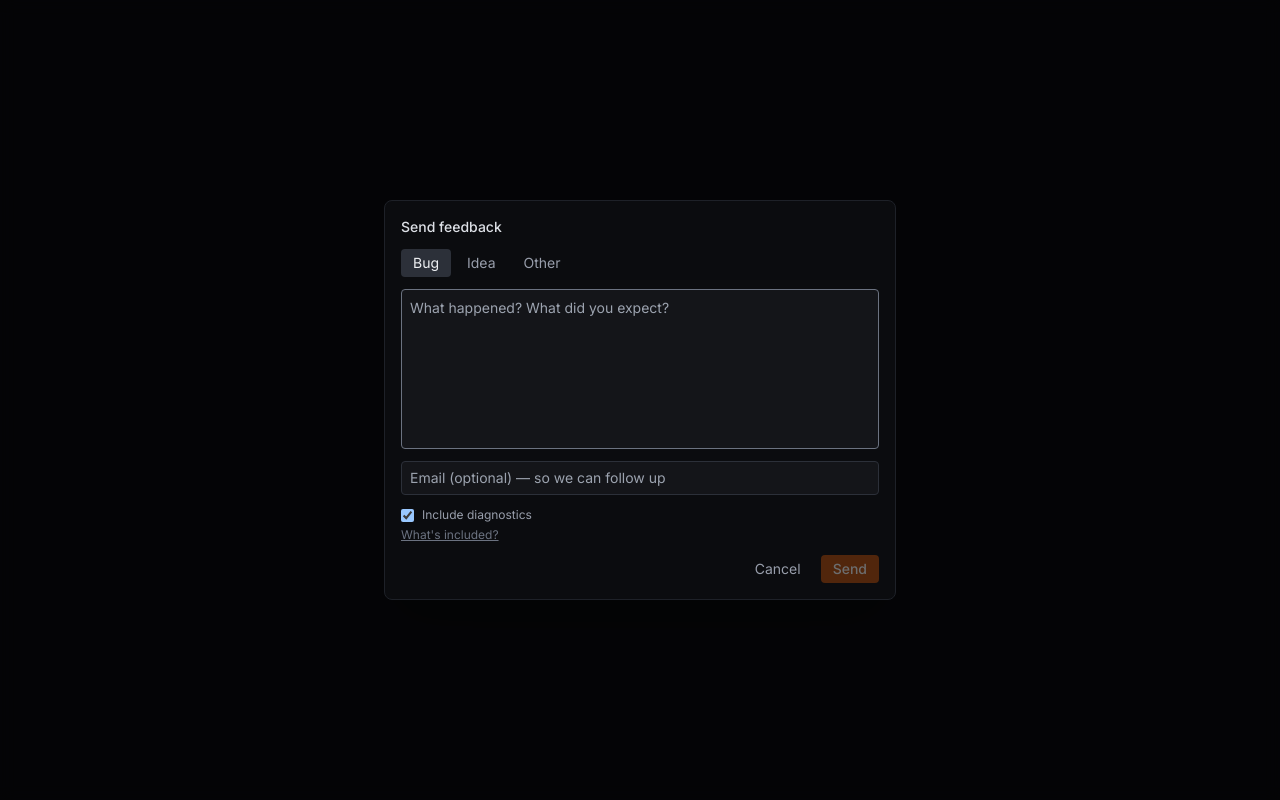
FeedbackDialog › shows an error with Retry on failure
Type "x" into the text box named "message" at [640, 369], box [401, 289, 879, 449]
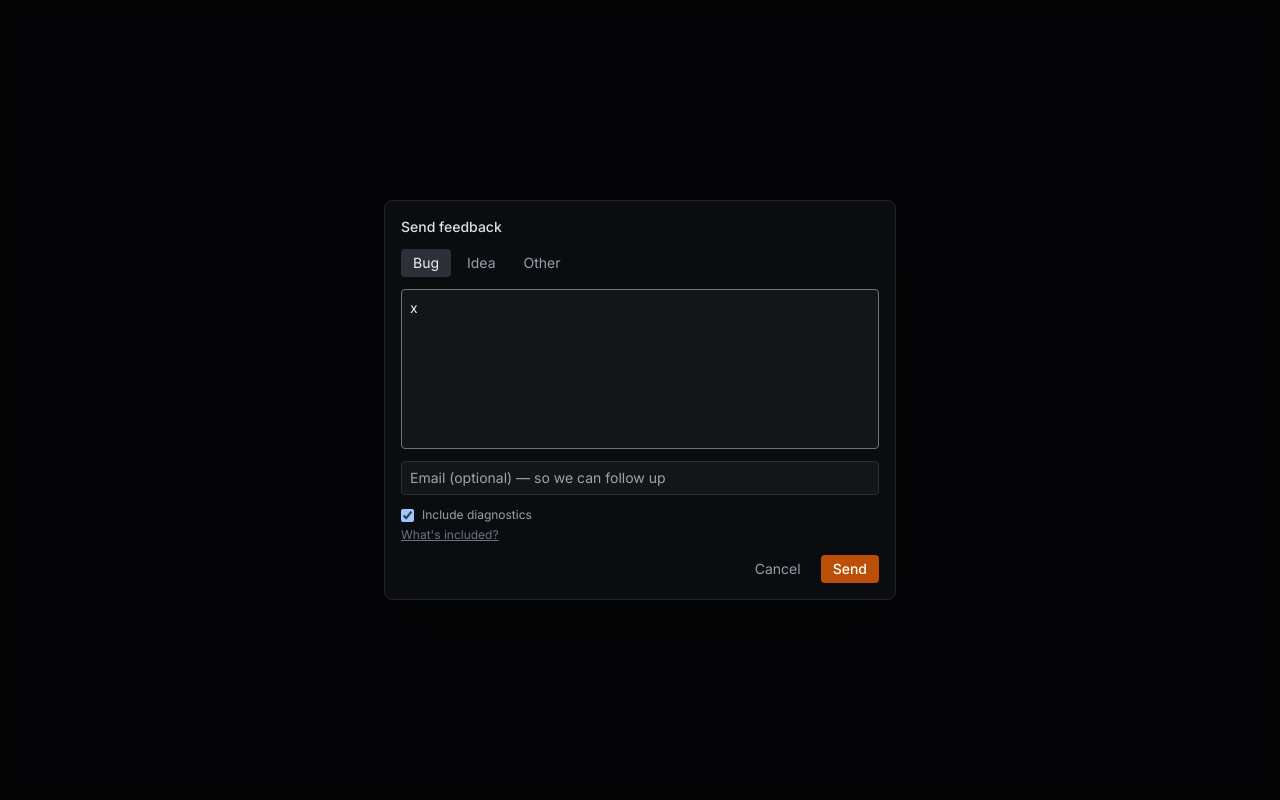
Click the button "Send" at [850, 569], box [821, 555, 879, 583]
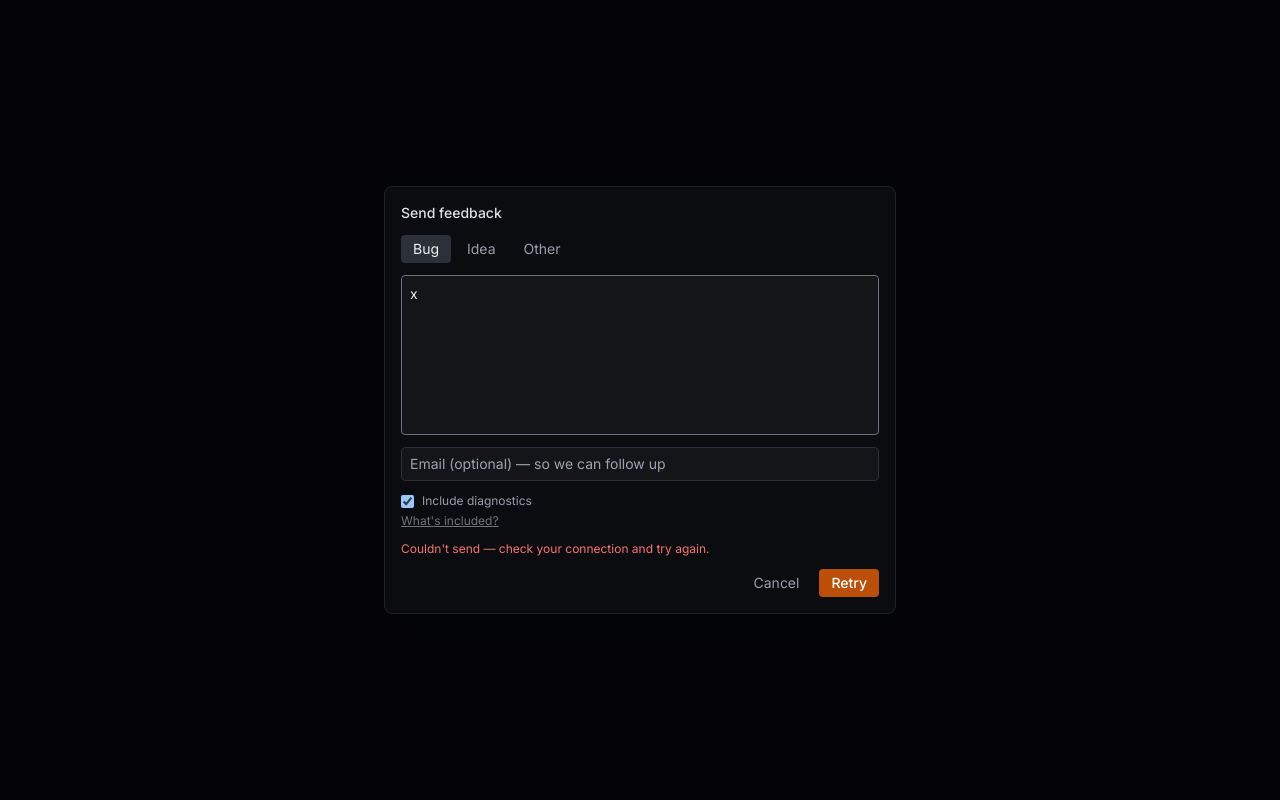
Result: the text "Couldn't send — check your connection and try again." is shown at [401, 541, 709, 556]
Result: the button "Retry" is shown at [819, 569, 879, 597]
